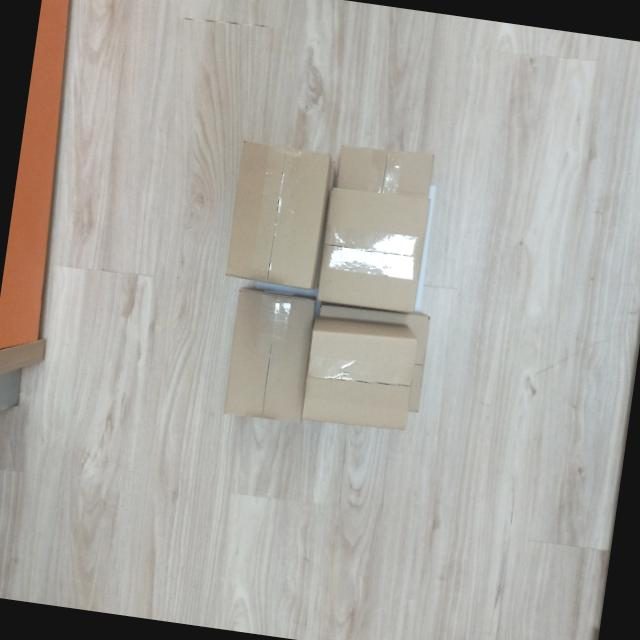box: (219, 136, 336, 294), (296, 312, 425, 438), (313, 184, 436, 316), (219, 282, 318, 429)
